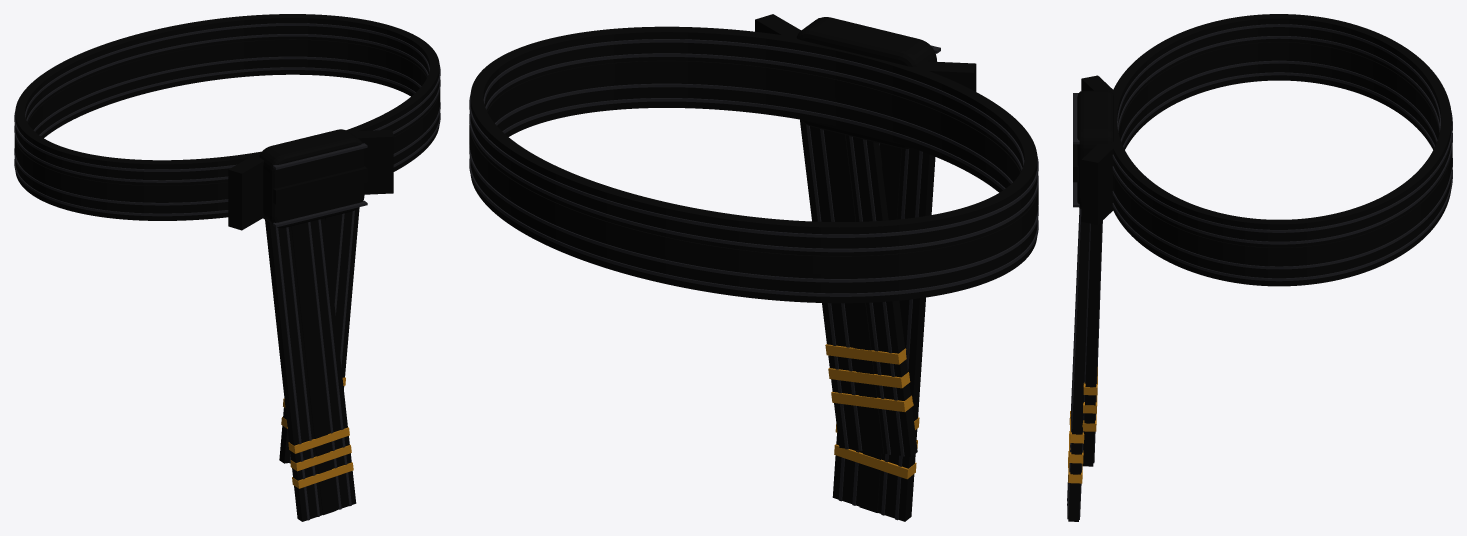
Rendered from cinturon-itf.obj.
The picture shows the model from 3 angles, left to right: view 1: azimuth 30°, elevation 25°; view 2: azimuth 150°, elevation 25°; view 3: azimuth 270°, elevation 25°; orthographic projection. The views are drawn at different scales.
Visible parts, largest first — view 1: band_cloth, tail_left_cloth, band_stripe, knot, tail_left_stripe, tail_right_cloth, band_stitch_4, band_stitch_3, knot_wrap_left, band_stitch_2, band_stitch_1, knot_wrap_right (+10 smaller); view 2: band_cloth, band_stripe, tail_right_cloth, tail_left_cloth, band_stitch_4, band_stitch_3, band_stitch_2, band_stitch_1, knot, tail_right_stripe, tail_left_stripe, knot_wrap_left (+10 smaller); view 3: band_cloth, band_stripe, tail_left_cloth, band_stitch_4, band_stitch_3, band_stitch_2, band_stitch_1, tail_right_cloth, knot_wrap_right, knot, tail_right_stitch_4, tail_left_stitch_4.
Boxes of the visible parts, left/top/right/bottom form: band_cloth: left=15, top=14, right=439, bottom=220; tail_left_cloth: left=265, top=218, right=356, bottom=521; band_stripe: left=14, top=39, right=440, bottom=199; knot: left=259, top=129, right=364, bottom=228; tail_left_stripe: left=291, top=223, right=336, bottom=515; tail_right_cloth: left=279, top=207, right=359, bottom=463; band_stitch_4: left=14, top=23, right=440, bottom=171; band_stitch_3: left=14, top=34, right=440, bottom=182; knot_wrap_left: left=228, top=155, right=264, bottom=230; band_stitch_2: left=14, top=56, right=440, bottom=205; band_stitch_1: left=14, top=67, right=440, bottom=216; knot_wrap_right: left=350, top=129, right=393, bottom=194; band_cloth: left=470, top=26, right=1037, bottom=303; band_stripe: left=469, top=60, right=1038, bottom=274; tail_right_cloth: left=800, top=119, right=917, bottom=456; tail_left_cloth: left=832, top=143, right=935, bottom=521; band_stitch_4: left=469, top=39, right=1038, bottom=237; band_stitch_3: left=469, top=53, right=1038, bottom=252; band_stitch_2: left=469, top=83, right=1038, bottom=282; band_stitch_1: left=469, top=98, right=1038, bottom=296; knot: left=796, top=17, right=936, bottom=148; tail_right_stripe: left=827, top=130, right=883, bottom=453; tail_left_stripe: left=859, top=144, right=901, bottom=512; knot_wrap_left: left=917, top=61, right=976, bottom=91; band_cloth: left=1111, top=14, right=1451, bottom=286; band_stripe: left=1112, top=42, right=1452, bottom=263; tail_left_cloth: left=1068, top=217, right=1089, bottom=521; band_stitch_4: left=1112, top=24, right=1452, bottom=232; band_stitch_3: left=1112, top=36, right=1452, bottom=244; band_stitch_2: left=1112, top=60, right=1452, bottom=269; band_stitch_1: left=1112, top=72, right=1452, bottom=281; tail_right_cloth: left=1082, top=221, right=1101, bottom=466; knot_wrap_right: left=1081, top=142, right=1115, bottom=224; knot: left=1077, top=90, right=1113, bottom=208; tail_right_stitch_4: left=1083, top=220, right=1102, bottom=463; tail_left_stitch_4: left=1067, top=209, right=1083, bottom=519.
Size of the model in its own units: 0.3284 by 0.29 by 0.2535.
